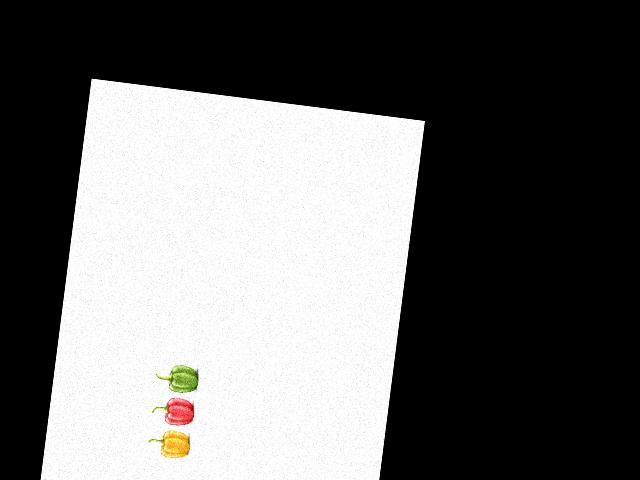bell_pepper: (154, 359, 202, 394)
